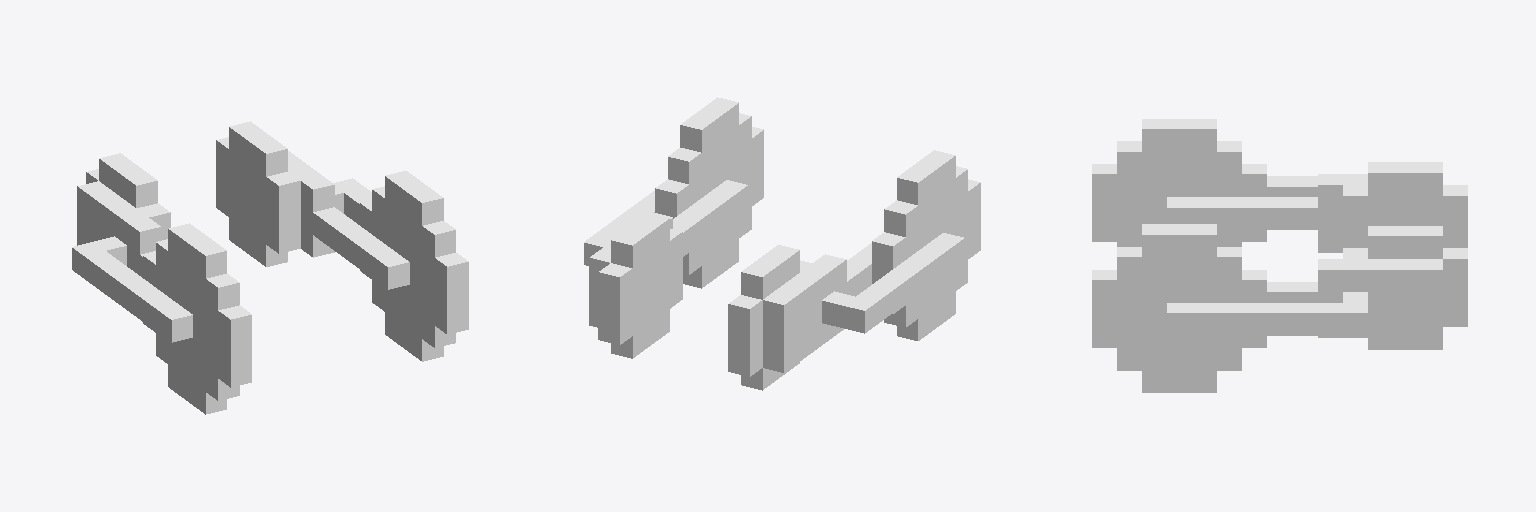
File: WeaponSpinningBlade.obj
3 views of the same model, side by side, from view 1: azimuth 30°, elevation 25°; view 2: azimuth 150°, elevation 25°; view 3: azimuth 270°, elevation 25° (orthographic).
Visible parts, largest first — view 1: object 1; view 2: object 1; view 3: object 1.
Part boxes in pixels (x1,y1,x2,y2): object 1: (72,121,468,414); object 1: (584,97,980,390); object 1: (1092,119,1467,392).
Bounding box in the file's own units: 1.3 × 0.7 × 1.5.